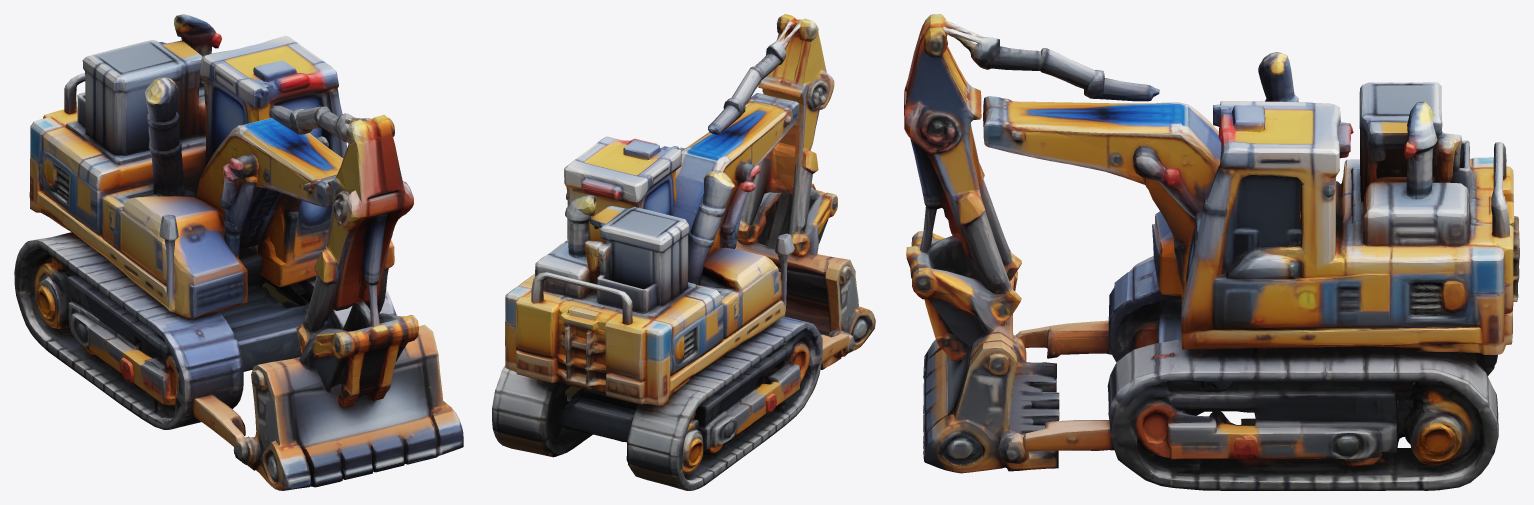
The picture shows the model from 3 angles, left to right: view 1: azimuth 30°, elevation 25°; view 2: azimuth 150°, elevation 25°; view 3: azimuth 270°, elevation 25°; orthographic projection. The views are drawn at different scales.
Parts seen in each view (by area): view 1: world; view 2: world; view 3: world.
Part boxes in pixels (x1,y1,x2,y2): world: [14, 14, 463, 490]; world: [492, 14, 875, 490]; world: [904, 14, 1519, 490].
Bounding box in the file's own units: 0.4592 × 0.7244 × 0.9831.
Materials: 1 (1 with a texture image).
